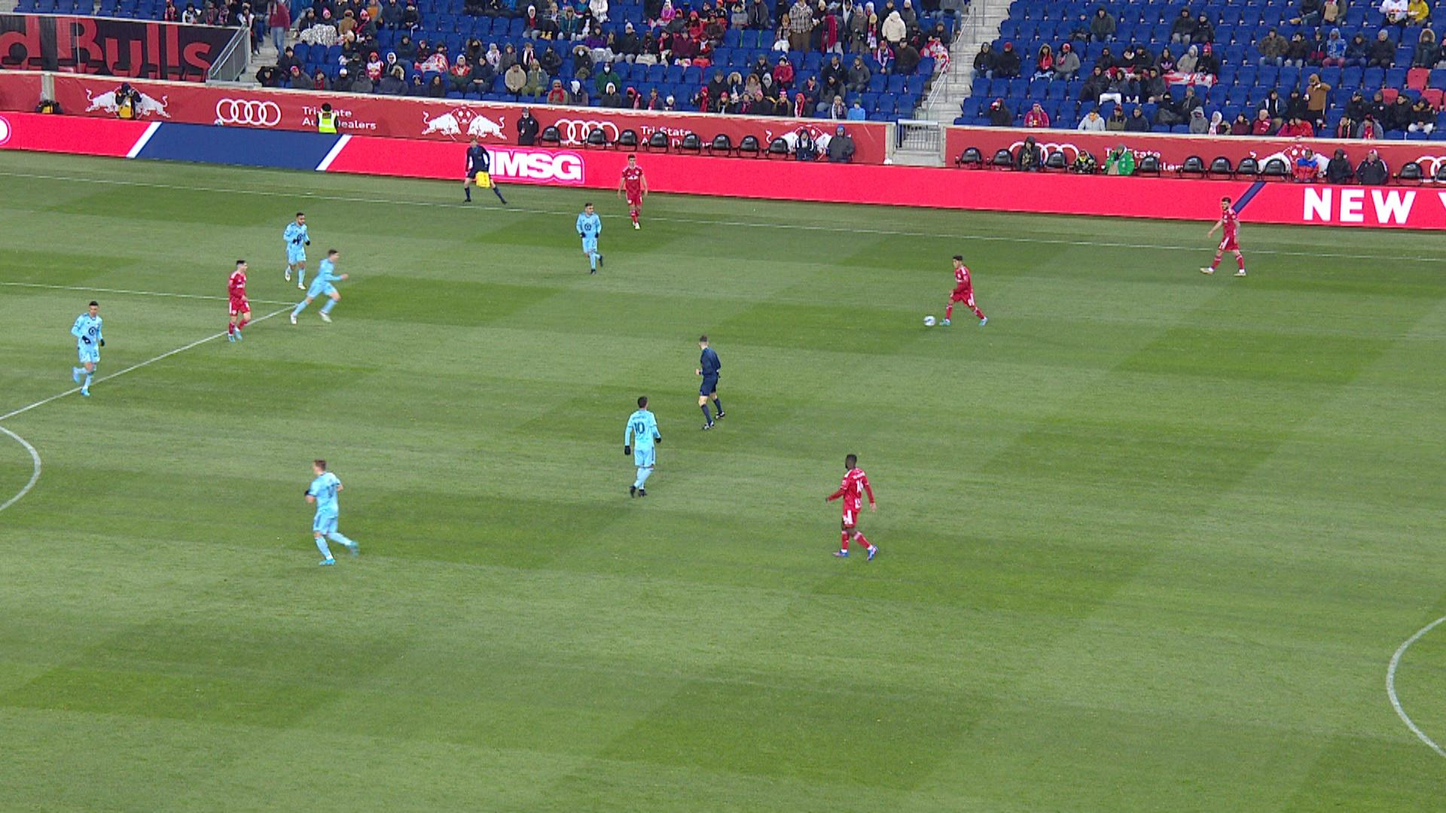Player: (826, 454, 879, 561), (305, 460, 359, 565), (290, 250, 348, 325), (1200, 197, 1246, 277), (625, 396, 661, 498), (939, 255, 988, 326), (71, 301, 105, 397), (618, 154, 648, 229), (283, 212, 310, 290), (576, 202, 603, 274), (228, 260, 251, 342)
ball: (924, 313, 935, 327)
referee: (464, 137, 507, 204), (696, 335, 725, 429)
